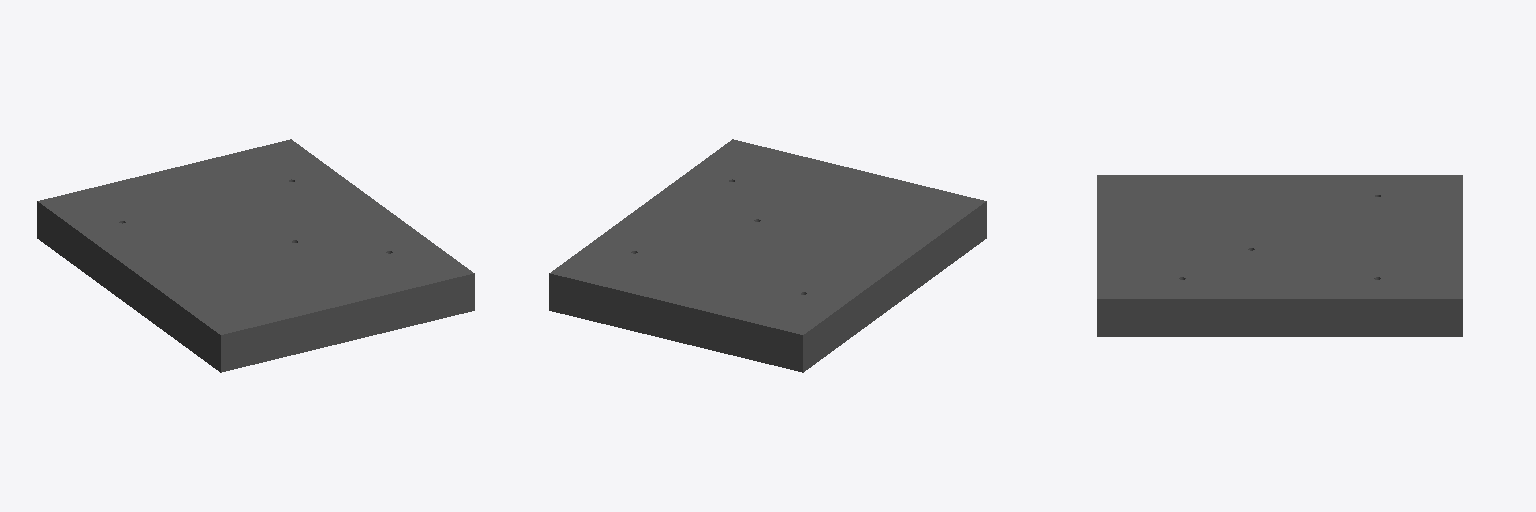
Rendered from rect2.obj.
3 views of the same model, side by side, from view 1: azimuth 30°, elevation 25°; view 2: azimuth 150°, elevation 25°; view 3: azimuth 270°, elevation 25° (orthographic).
Parts seen in each view (by area): view 1: StainlessSteel_rect2; view 2: StainlessSteel_rect2; view 3: StainlessSteel_rect2.
Part boxes in pixels (left/top/right/bottom): StainlessSteel_rect2: left=37, top=139, right=474, bottom=372; StainlessSteel_rect2: left=549, top=139, right=986, bottom=372; StainlessSteel_rect2: left=1097, top=175, right=1462, bottom=336.
Bounding box in the file's own units: 0.09 × 0.0127 × 0.1125.